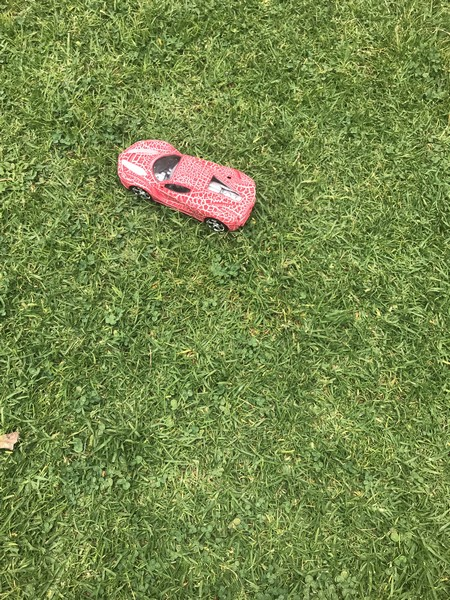RC: (116, 135, 257, 235)
